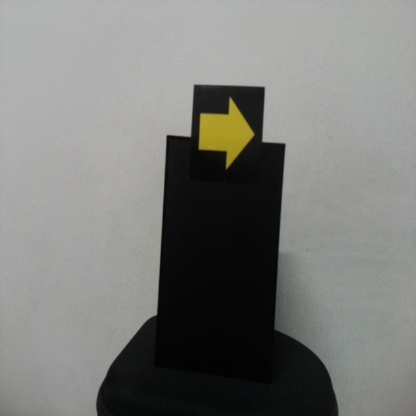id_3: (193, 88, 264, 178)
